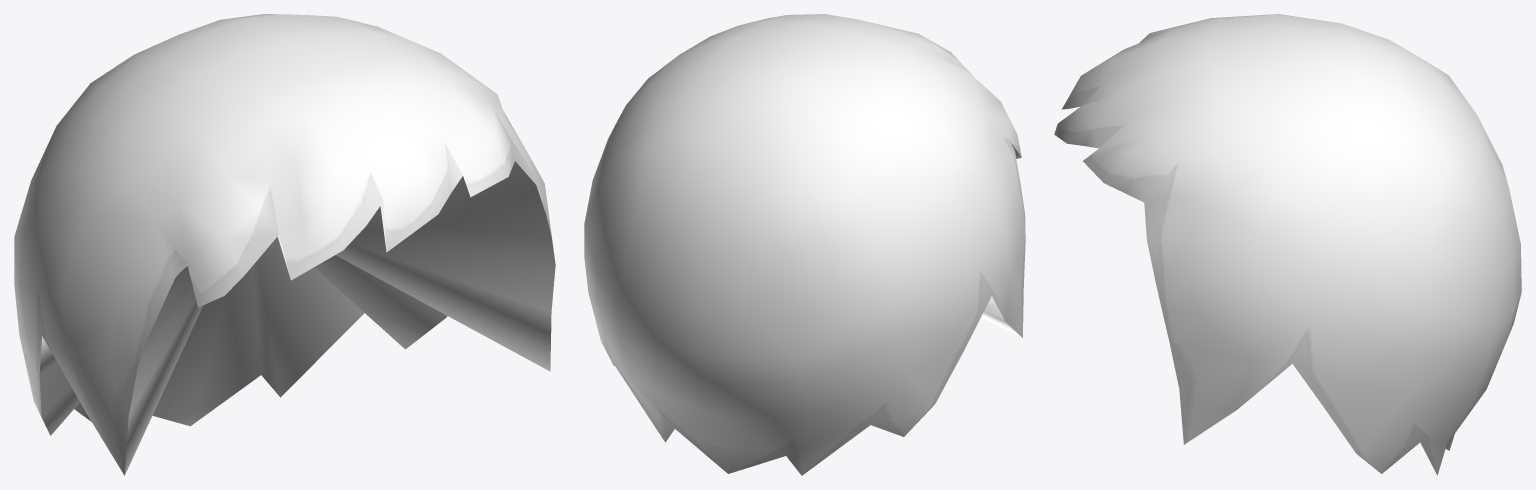
The model's file is hair_1.fbx.
3 renders of one model, left to right at view 1: azimuth 30°, elevation 25°; view 2: azimuth 150°, elevation 25°; view 3: azimuth 270°, elevation 25°, orthographic. The views are drawn at different scales.
Visible parts, largest first — view 1: hair_1; view 2: hair_1; view 3: hair_1.
Part boxes in pixels (box(x1,y1,x2,y2)): hair_1: box(14, 14, 555, 475); hair_1: box(584, 14, 1025, 475); hair_1: box(1054, 14, 1521, 475).
Size of the model in its own units: 1.54 by 1.42 by 1.47.
